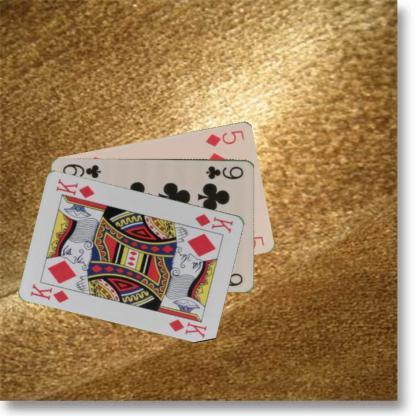5d: (203, 127, 247, 147)
9c: (203, 162, 245, 180)
Kd: (28, 280, 70, 304), (193, 211, 235, 234)
